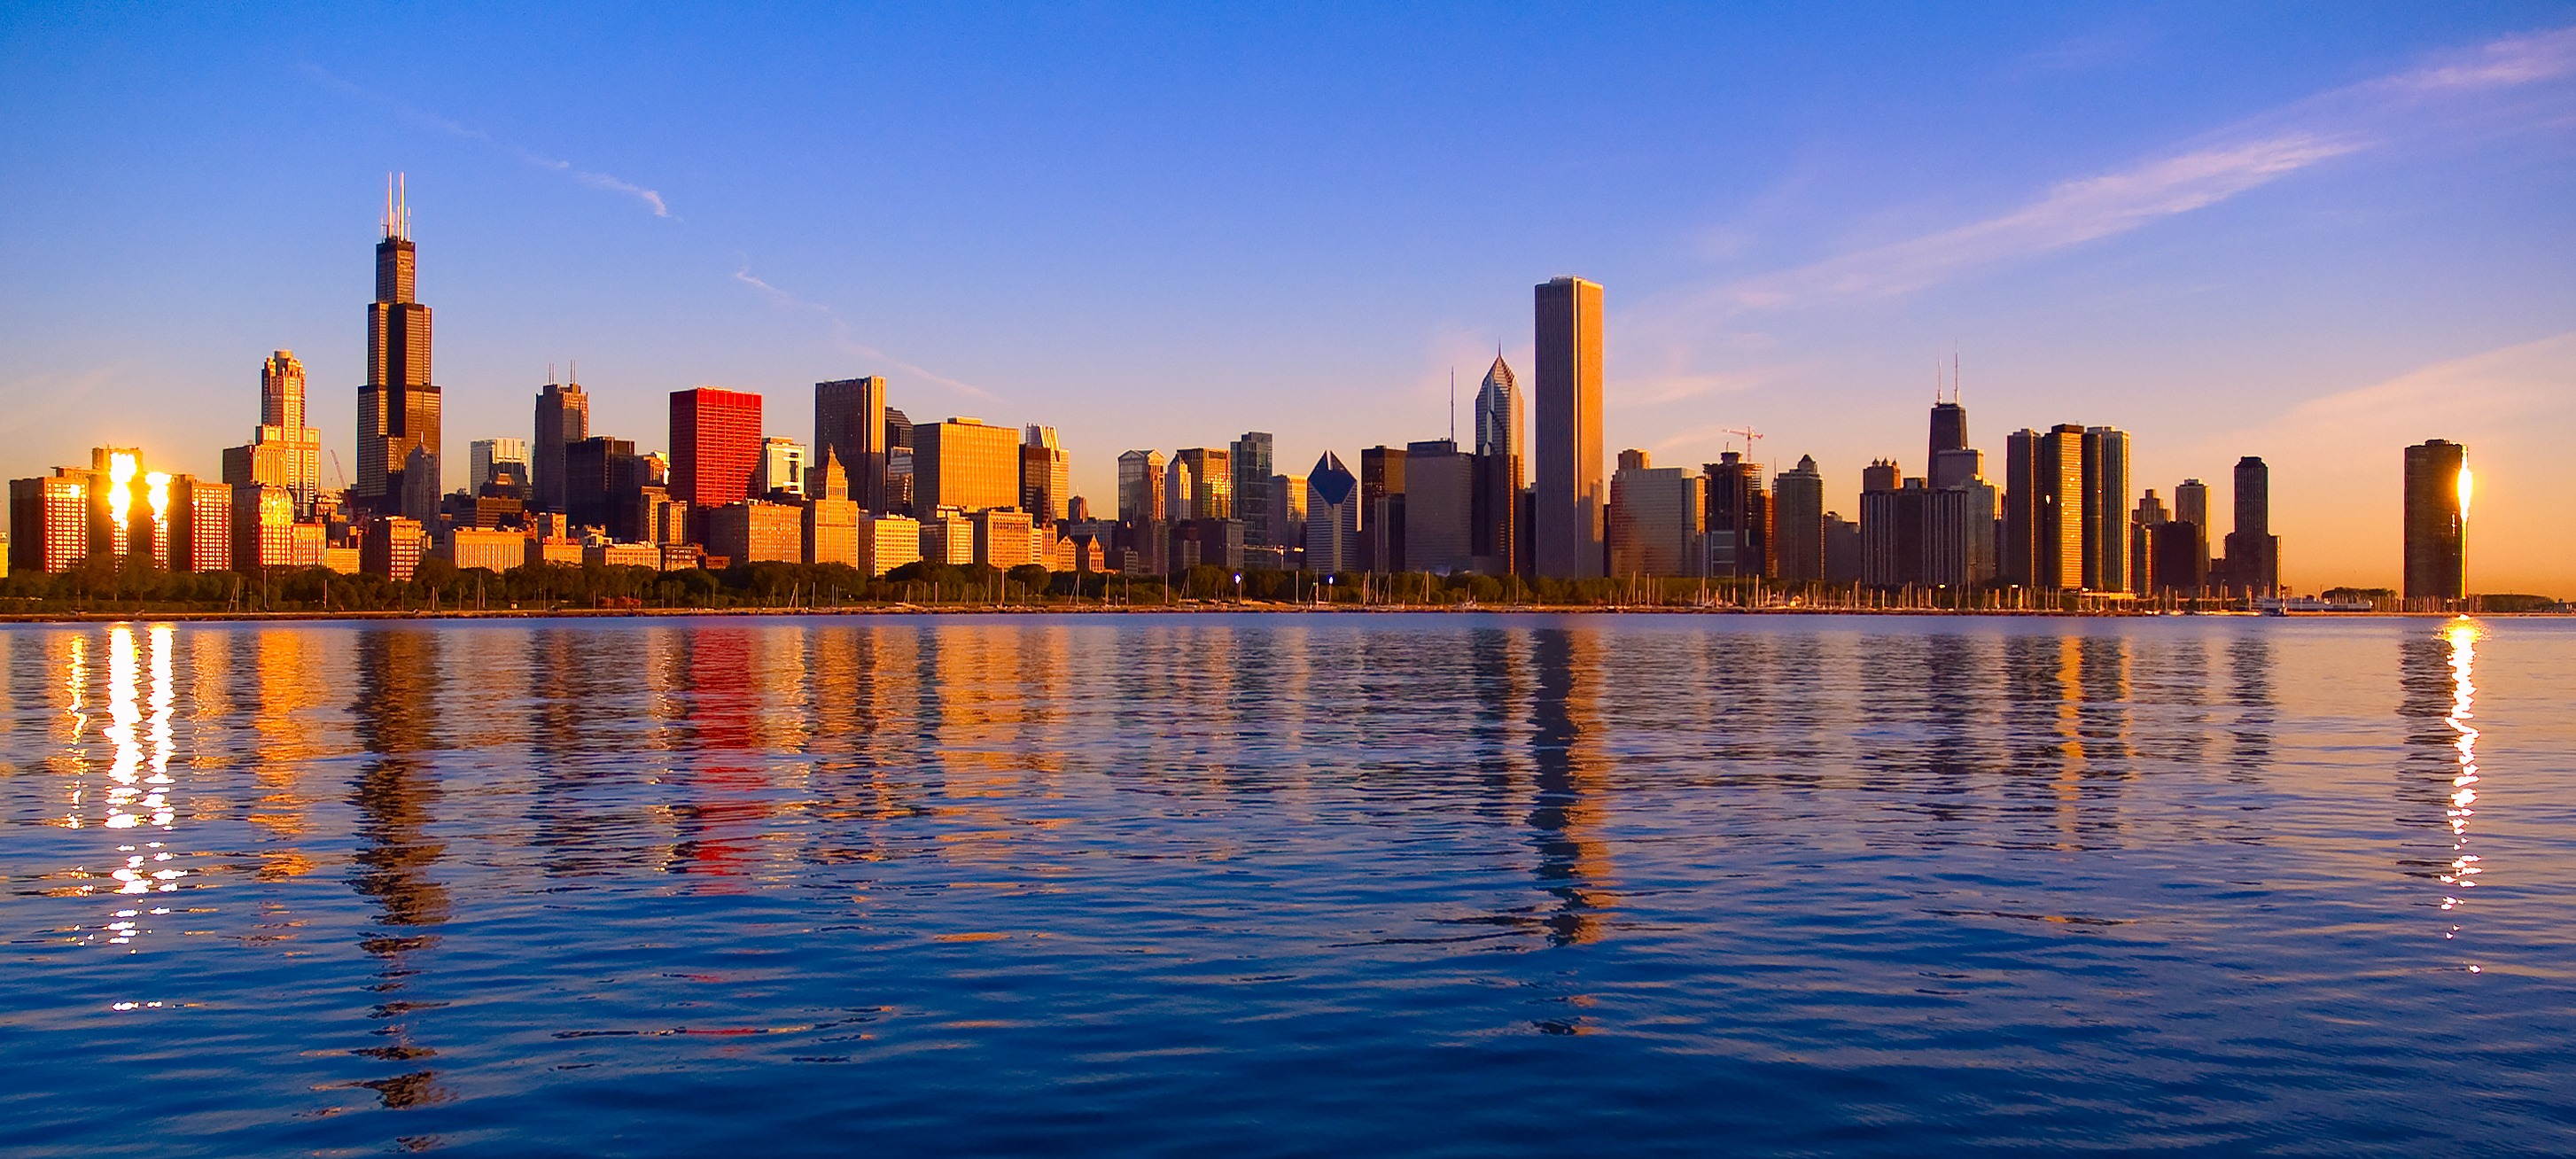willis: (343, 138, 457, 502)
